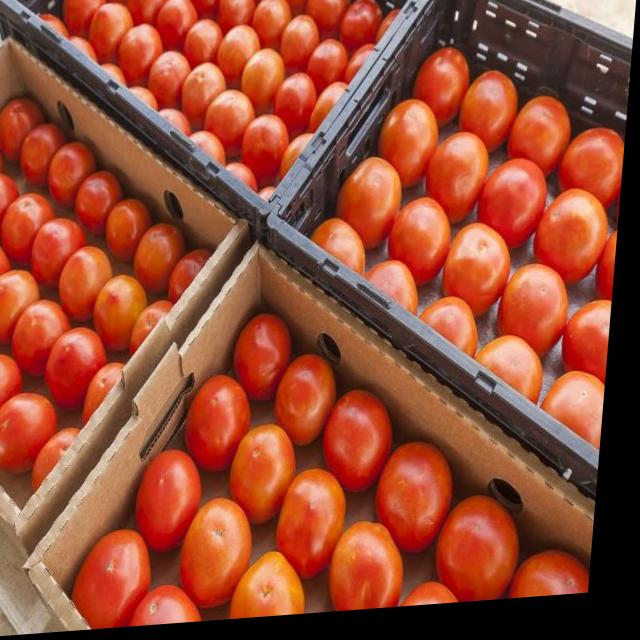kirmizi: (38, 334, 110, 400), (509, 166, 545, 227)
sari: (193, 497, 321, 622), (238, 423, 306, 518)
